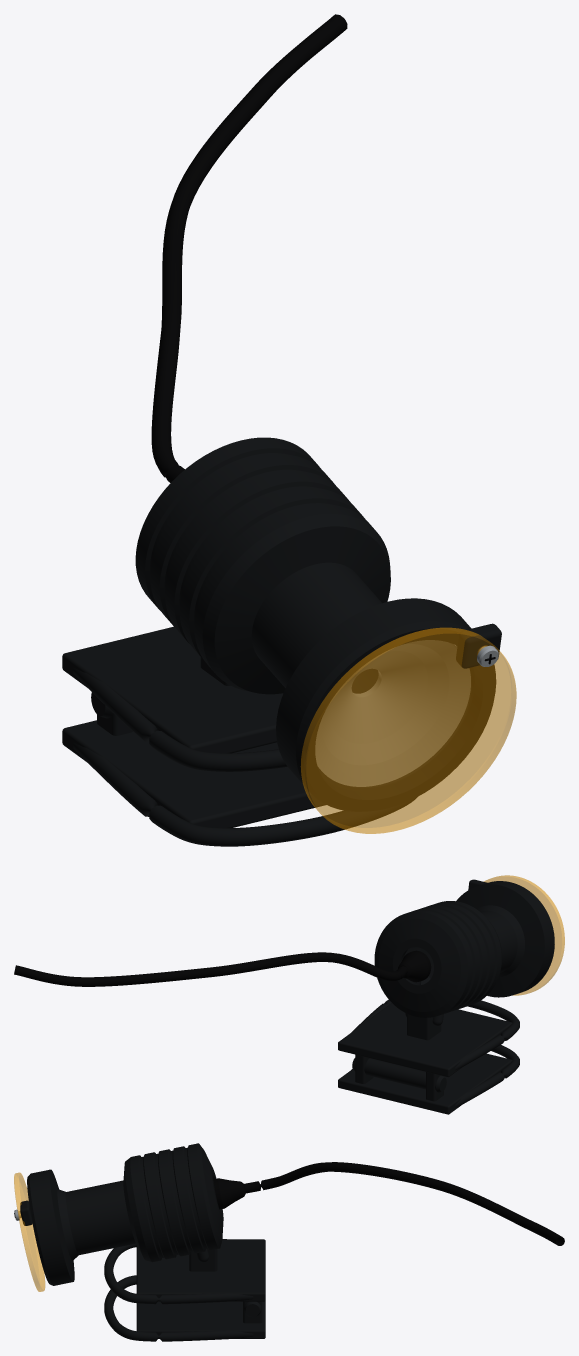
The model's file is light.glb.
3 views of the same model, one above another, from view 1: azimuth 30°, elevation 25°; view 2: azimuth 150°, elevation 25°; view 3: azimuth 270°, elevation 25° (orthographic). The views are drawn at different scales.
Visible parts, largest first — view 1: lampShell, lampFilter, lampJaw (×2), lampReflector, lampCable, lampBail-0, lampBail-1, filterTab; view 2: lampShell, lampJaw (×2), lampCable, lampFilter, lampBail-1, clampPin, lampBail-0, lampBoot, lampClampEar (×2), lampPivot; view 3: lampShell, lampJaw (×2), lampCable, lampBail-0, lampBail-1, lampFilter, lampBoot, lampPivot.
Part boxes in pixels (bbox=[...]): lampShell: bbox=[135, 437, 495, 811]; lampFilter: bbox=[300, 627, 516, 833]; lampJaw (×2): bbox=[62, 626, 325, 827]; lampReflector: bbox=[315, 640, 470, 786]; lampCable: bbox=[151, 14, 347, 482]; lampBail-0: bbox=[73, 742, 416, 846]; lampBail-1: bbox=[73, 668, 287, 771]; filterTab: bbox=[456, 623, 501, 668]; lampShell: bbox=[374, 881, 554, 1017]; lampJaw (×2): bbox=[338, 1003, 512, 1114]; lampCable: bbox=[14, 952, 407, 986]; lampFilter: bbox=[484, 875, 564, 995]; lampBail-1: bbox=[351, 999, 519, 1070]; clampPin: bbox=[352, 1058, 446, 1092]; lampBail-0: bbox=[351, 1045, 519, 1107]; lampBoot: bbox=[398, 950, 431, 982]; lampClampEar (×2): bbox=[355, 1054, 443, 1101]; lampPivot: bbox=[407, 1014, 441, 1040]; lampShell: bbox=[27, 1143, 223, 1285]; lampJaw (×2): bbox=[136, 1239, 265, 1338]; lampCable: bbox=[244, 1162, 564, 1245]; lampBail-0: bbox=[104, 1275, 253, 1341]; lampBail-1: bbox=[104, 1239, 253, 1304]; lampFilter: bbox=[14, 1172, 45, 1291]; lampBoot: bbox=[213, 1178, 245, 1209]; lampPivot: bbox=[189, 1249, 217, 1271].
Bounding box in the file's own units: 1.59 × 0.9641 × 2.56.
